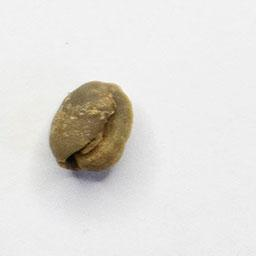peaberry: (45, 76, 135, 176)
